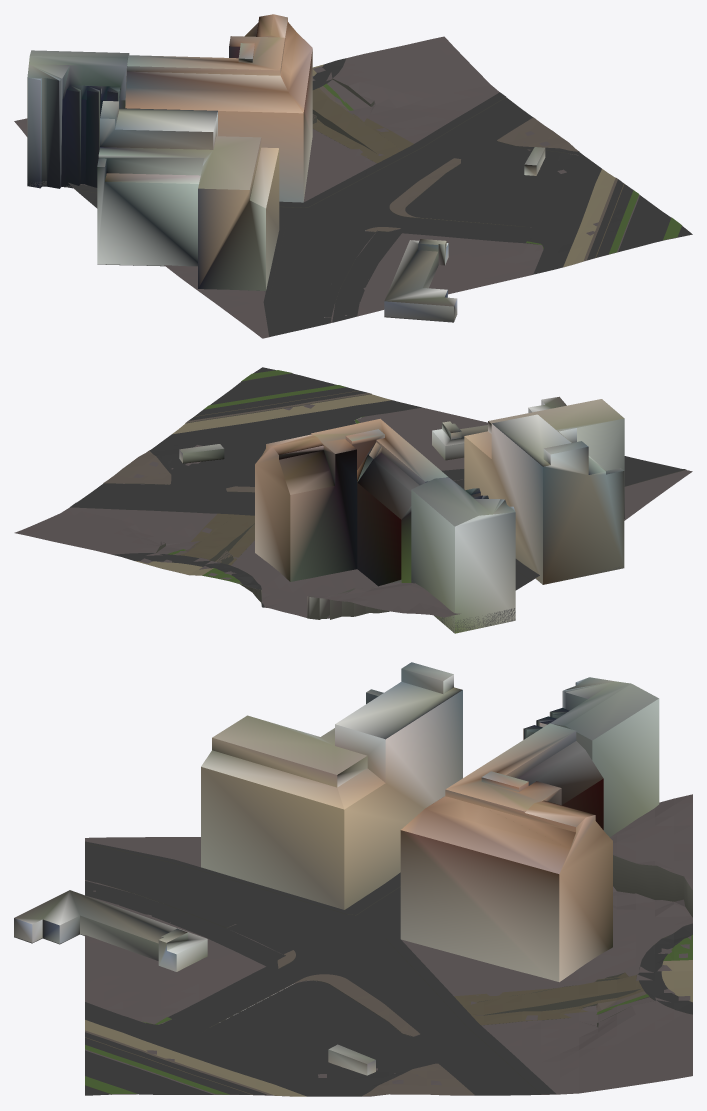
3 views of the same model, one above another, from view 1: azimuth 30°, elevation 25°; view 2: azimuth 150°, elevation 25°; view 3: azimuth 270°, elevation 25° (orthographic). The views are drawn at different scales.
Visible parts, largest first — view 1: c_p04_m13; view 2: c_p04_m13; view 3: c_p04_m13.
Part boxes in pixels (x1,y1,x2,y2): c_p04_m13: [14, 14, 692, 338]; c_p04_m13: [14, 367, 692, 633]; c_p04_m13: [14, 662, 692, 1096].
Size of the model in its own units: 142 by 38.18 by 143.
